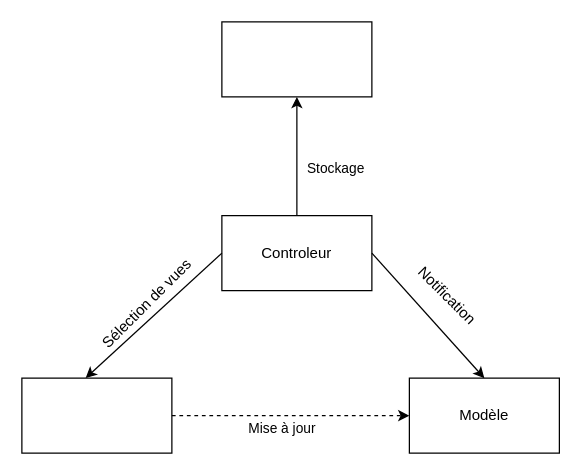
Some shapes in this 581 by 475 pixel diagram are drawn without their labels. The shapes that lost their labels are listed below. From the top down, each one's centre as x and y in pixels, then its label:
At [296,59]: "Persistance".
At [96,415]: "View".
